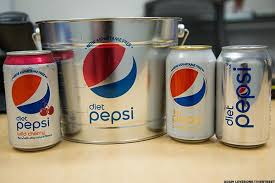can: (3, 46, 68, 159), (215, 36, 273, 156), (161, 35, 214, 144)
